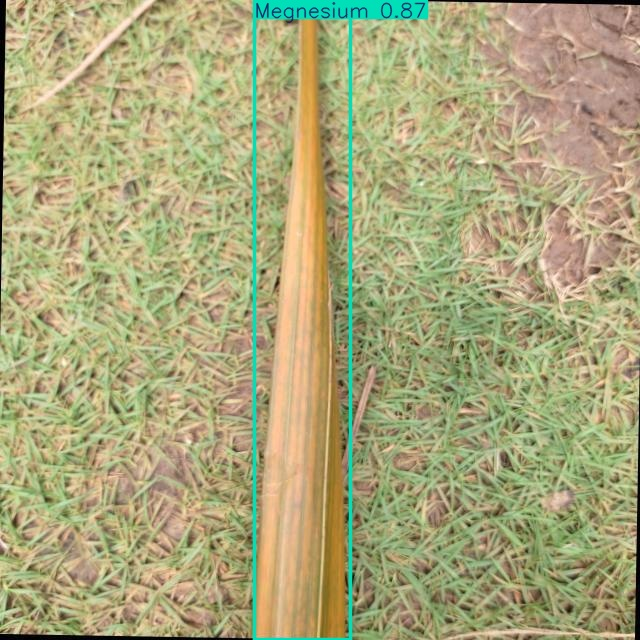Megnesium: (254, 0, 350, 639)
